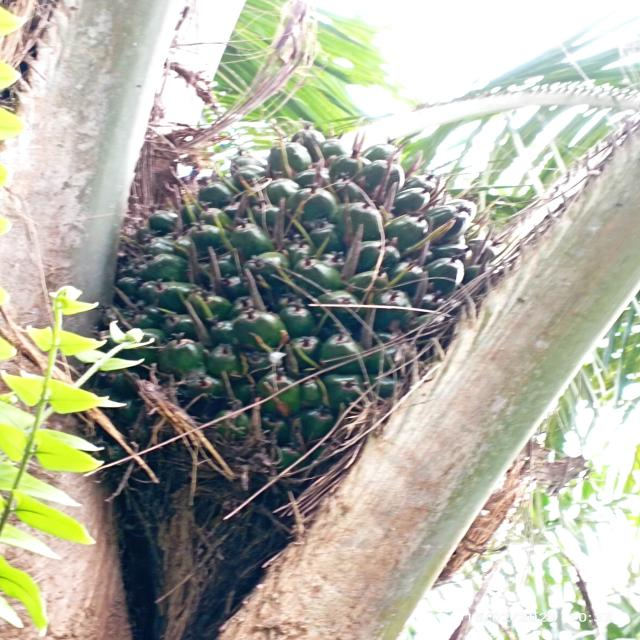fraksi 00: (62, 47, 560, 554)
